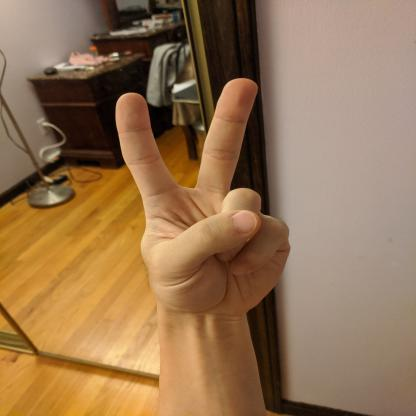V: (110, 75, 295, 320)
